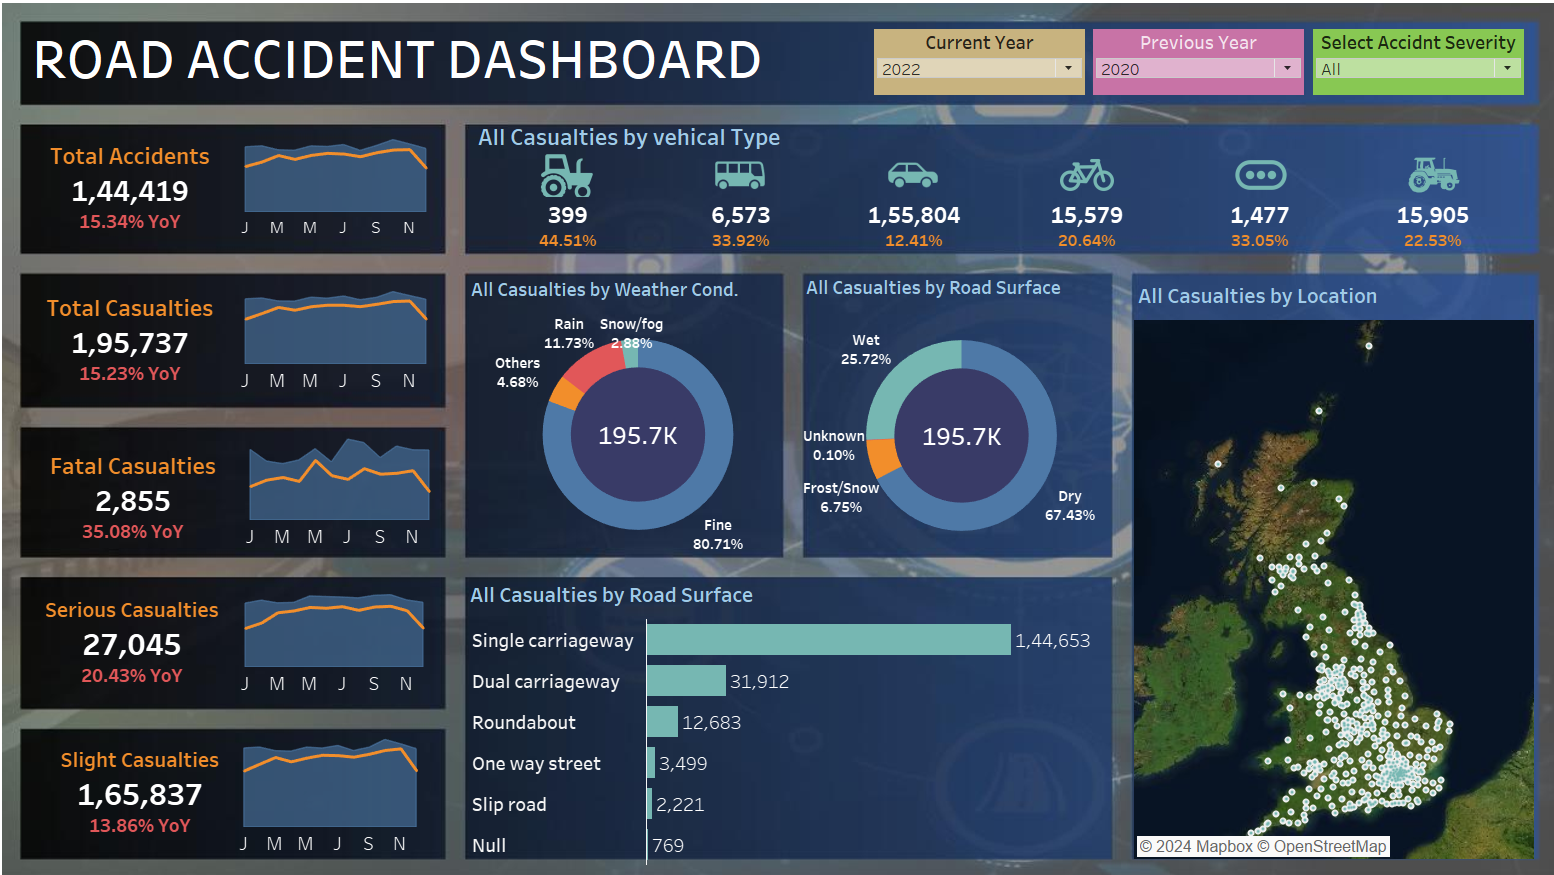

This screenshot's page, from the dashboard's own definition file:
{"tool":"tableau","page":{"name":"Dashboard 1","canvas":[1600,900],"ordinal":0},"visuals":[{"type":"image","param":"C:/Users/ssing/Downloads/Background.pptx.jpg","box":[8,8,1584,884]},{"type":"text","box":[47,25,749,82]},{"type":"parameter","param":"[Parameters].[Parameter 1]","box":[889,34,219.3,74]},{"type":"parameter","param":"[Parameters].[Current Yeae (copy)_2169046224828141569]","box":[1108.3,34,219.3,74]},{"type":"parameter","param":"[Parameters].[Parameter 2]","box":[1327.7,34,219.3,74]},{"type":"text","box":[493,128,451,34]},{"type":"worksheet","title":"Total Accidents","mark":"Automatic","box":[47,141,205,110]},{"type":"worksheet","title":"Accident sparkline","mark":"Automatic","rows":["CY Accidents (copy)_2169046224829390851","Calculation_2169046224828416002"],"cols":["Accident Date"],"box":[252,141,205,110]},{"type":"worksheet","title":"Vechicle type images","mark":"Shape","box":[494,157,1050,49]},{"type":"worksheet","title":"Vehicel type KPI","mark":"Automatic","box":[500,200,1038,67]},{"type":"worksheet","title":"Road Surface","mark":"Pie","rows":["Calculation_1609755446409551873","Calculation_1609755446409601027"],"box":[821,279,319,291]},{"type":"worksheet","title":"Weather conditions","mark":"Pie","rows":["Calculation_1609755446409551873","Calculation_1609755446409601027"],"box":[486,281,342,285]},{"type":"worksheet","title":"By Location","mark":"Automatic","rows":["Latitude"],"cols":["Longitude"],"box":[1153,286,400,582]},{"type":"worksheet","title":"Total Casualties","mark":"Automatic","box":[47,293,205,110]},{"type":"worksheet","title":"Total Casualties sparkline ","mark":"Automatic","rows":["CY Casulaties (copy)_2169046224836886534","Calculation_2169046224835624965"],"cols":["Accident Date"],"box":[252,293,205,110]},{"type":"worksheet","title":"Fatal Casualties","mark":"Automatic","box":[48,438,207,120]},{"type":"worksheet","title":"Fatal Casualties sparkline","mark":"Automatic","rows":["CY Fatal Casualties (copy)_2169046224838852617","Calculation_2169046224838152200"],"cols":["Accident Date"],"box":[261,444,195,114]},{"type":"worksheet","title":"Road type","mark":"Automatic","rows":["Road_Type"],"cols":["Calculation_2169046224835624965"],"box":[485,585,647,289]},{"type":"worksheet","title":"Serious Casualties ","mark":"Automatic","box":[49,596,203,110]},{"type":"worksheet","title":"Serious Casualties sparkline ","mark":"Automatic","rows":["CY Serious Casualties  (copy)_2169046224839991308","CY Fatal Casualties (copy)_2169046224839585803"],"cols":["Accident Date"],"box":[252,596,202,110]},{"type":"worksheet","title":"Slight Casualties sparkline ","mark":"Automatic","rows":["CY Slight Casualties  (copy)_2169046224841220112","CY Fatal Casualties (copy)_2169046224840880143"],"cols":["Accident Date"],"box":[255,744,188,121]},{"type":"worksheet","title":"Slight Casualties ","mark":"Automatic","box":[49,750,219,101]}]}

Visuals, with their boxes in screenshot pixels (x1, y1, x2, y2), scaled from the page's 1600x900 canvas onto the 1554x875 screenshot:
image: 8:8:1546:867
text: 46:24:773:104
parameter: 863:33:1076:105
parameter: 1076:33:1289:105
parameter: 1290:33:1503:105
text: 479:124:917:158
"Total Accidents" worksheet: 46:137:245:244
"Accident sparkline" worksheet: 245:137:444:244
"Vechicle type images" worksheet (Shape marks): 480:153:1500:200
"Vehicel type KPI" worksheet: 486:194:1494:260
"Road Surface" worksheet (Pie marks): 797:271:1107:554
"Weather conditions" worksheet (Pie marks): 472:273:804:550
"By Location" worksheet: 1120:278:1508:844
"Total Casualties" worksheet: 46:285:245:392
"Total Casualties sparkline " worksheet: 245:285:444:392
"Fatal Casualties" worksheet: 47:426:248:542
"Fatal Casualties sparkline" worksheet: 253:432:443:542
"Road type" worksheet: 471:569:1099:850
"Serious Casualties " worksheet: 48:579:245:686
"Serious Casualties sparkline " worksheet: 245:579:441:686
"Slight Casualties sparkline " worksheet: 248:723:430:841
"Slight Casualties " worksheet: 48:729:260:827
